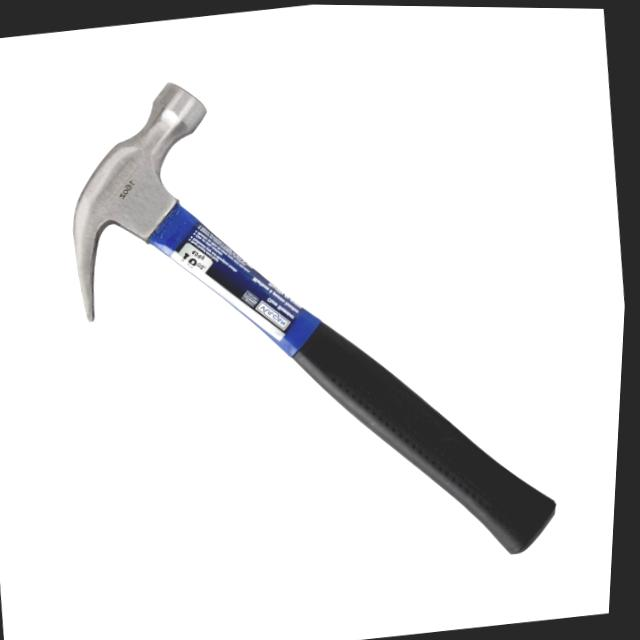hammer: (31, 29, 595, 615)
